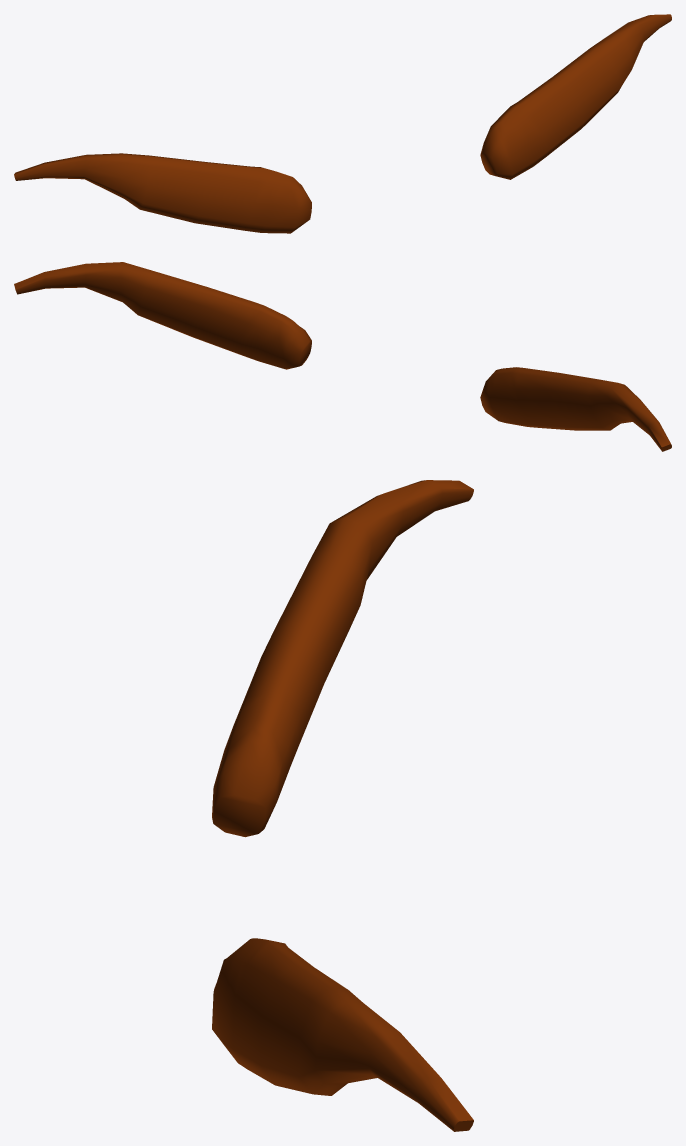
The model's file is Eyebrows_03_02.fbx.
3 views of the same model, one above another, from view 1: azimuth 30°, elevation 25°; view 2: azimuth 150°, elevation 25°; view 3: azimuth 270°, elevation 25° (orthographic). The views are drawn at different scales.
Visible parts, largest first — view 1: Eyebrows_03_02; view 2: Eyebrows_03_02; view 3: Eyebrows_03_02.
Part boxes in pixels (x1,y1,x2,y2): Eyebrows_03_02: (14, 14, 671, 233); Eyebrows_03_02: (14, 262, 671, 451); Eyebrows_03_02: (212, 480, 473, 1131).
Bounding box in the file's own units: 18.82 × 2.52 × 3.25.
